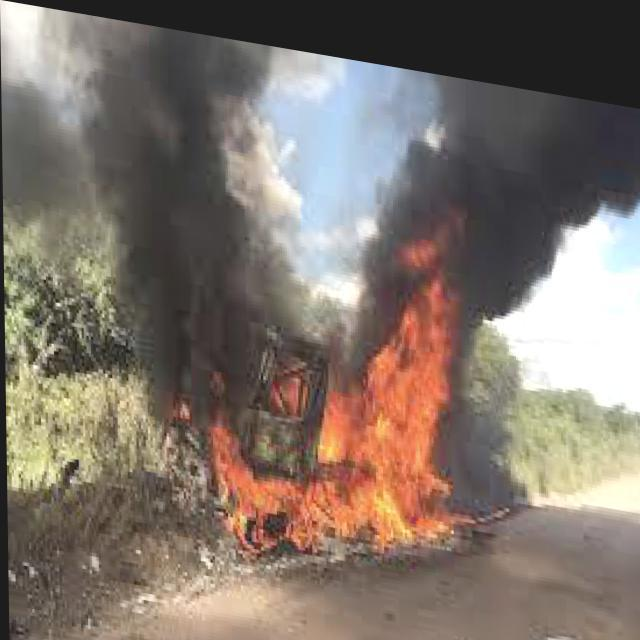Fire: (326, 218, 478, 560), (169, 358, 327, 554)
